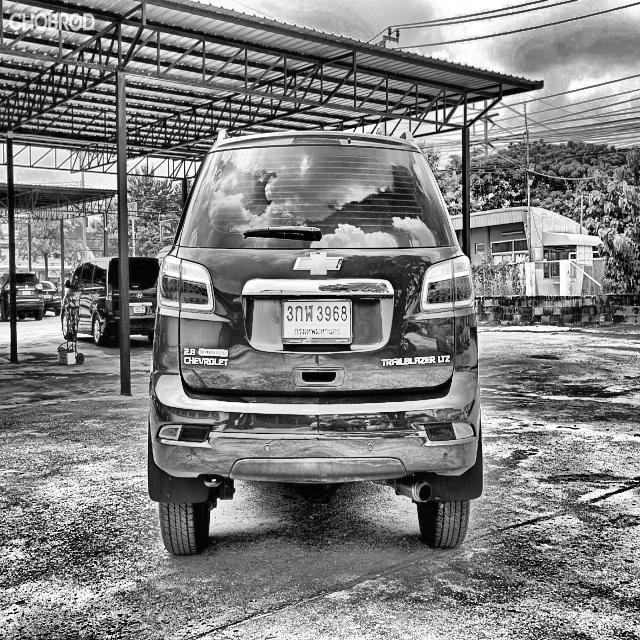license-plate: (280, 296, 355, 353)
